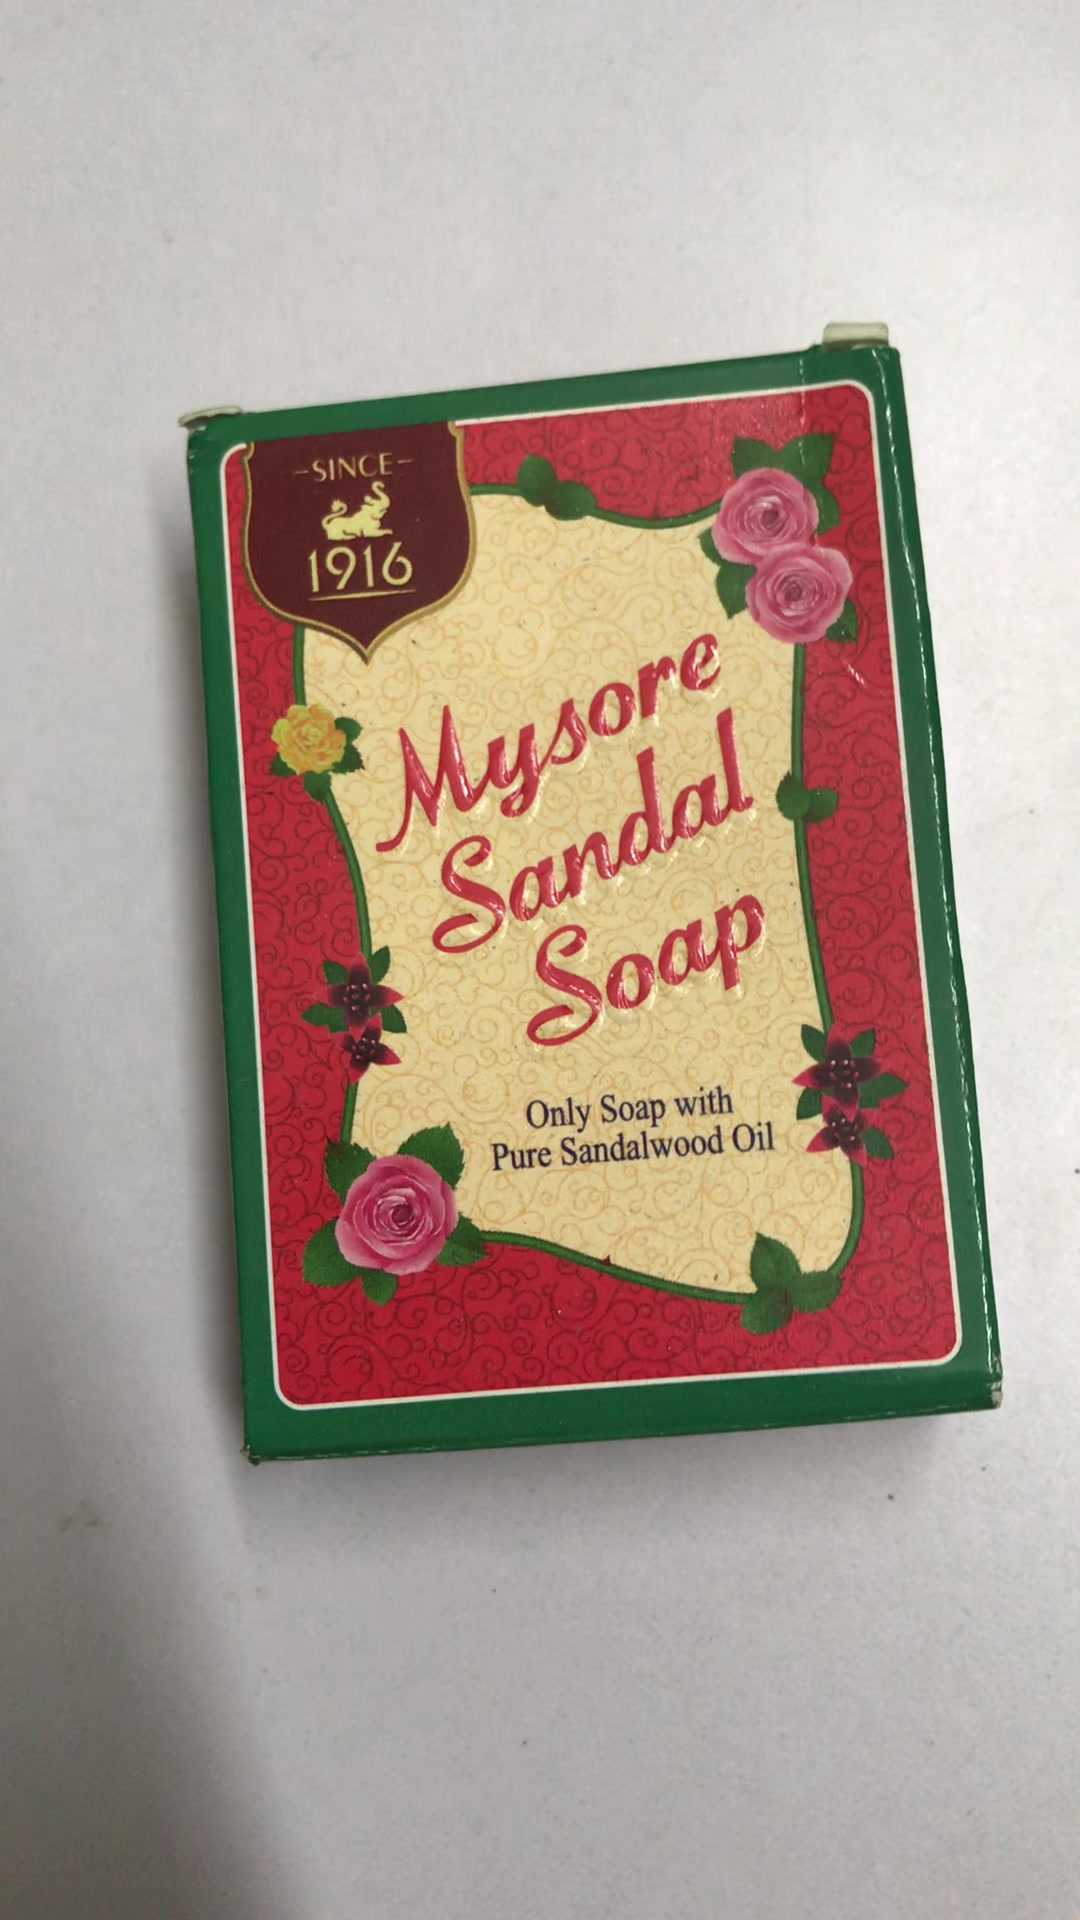mysore sandal soap: (179, 340, 1001, 1465)
